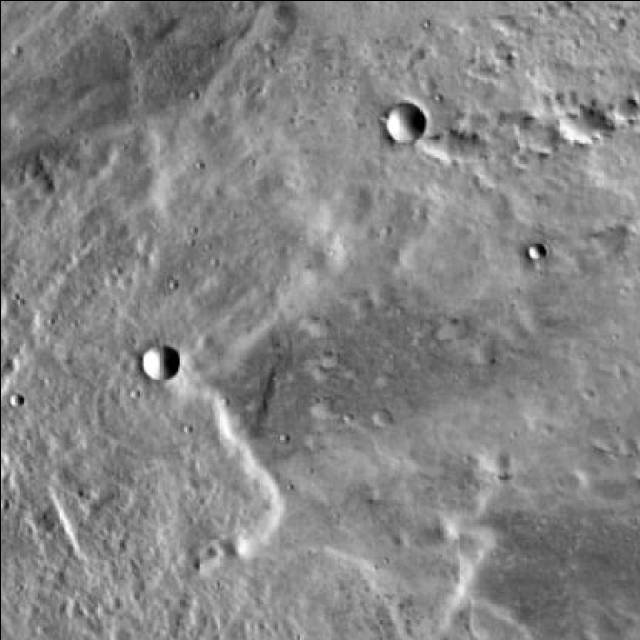crater: (424, 122, 470, 168), (552, 101, 596, 144), (382, 100, 422, 140), (140, 342, 178, 380), (480, 448, 509, 476), (522, 124, 548, 150), (502, 112, 528, 138), (605, 95, 629, 118), (308, 398, 330, 420), (28, 172, 50, 192), (472, 57, 492, 77), (491, 42, 511, 62), (374, 408, 392, 426), (529, 244, 546, 261), (302, 432, 320, 448), (634, 446, 640, 468), (636, 106, 640, 126)
